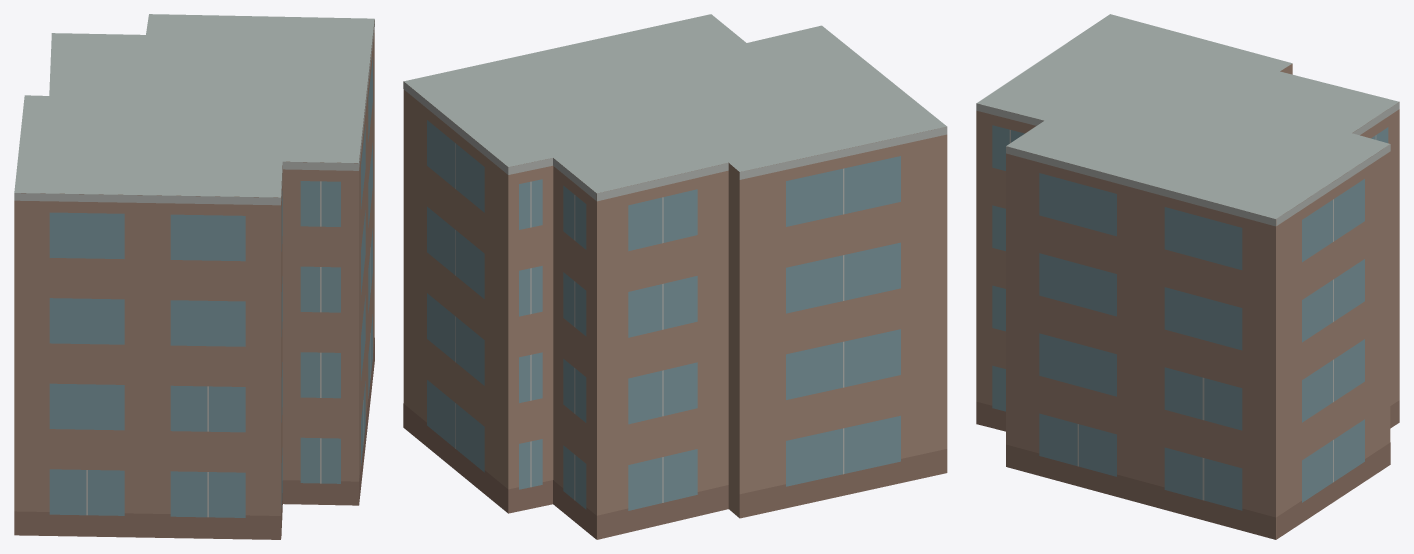
File: survey-upis-32619565.glb
3 views of the same model, side by side, from view 1: azimuth 30°, elevation 25°; view 2: azimuth 150°, elevation 25°; view 3: azimuth 270°, elevation 25° (orthographic). The views are drawn at different scales.
Visible parts, largest first — view 1: survey-upis-32619565.tmp; view 2: survey-upis-32619565.tmp; view 3: survey-upis-32619565.tmp.
Boxes of the visible parts, x1,y1,x2,y2 form: survey-upis-32619565.tmp: (14,14,374,539); survey-upis-32619565.tmp: (403,14,947,539); survey-upis-32619565.tmp: (976,14,1399,539).
Bounding box in the file's own units: 14.69 × 10.7 × 12.8.
